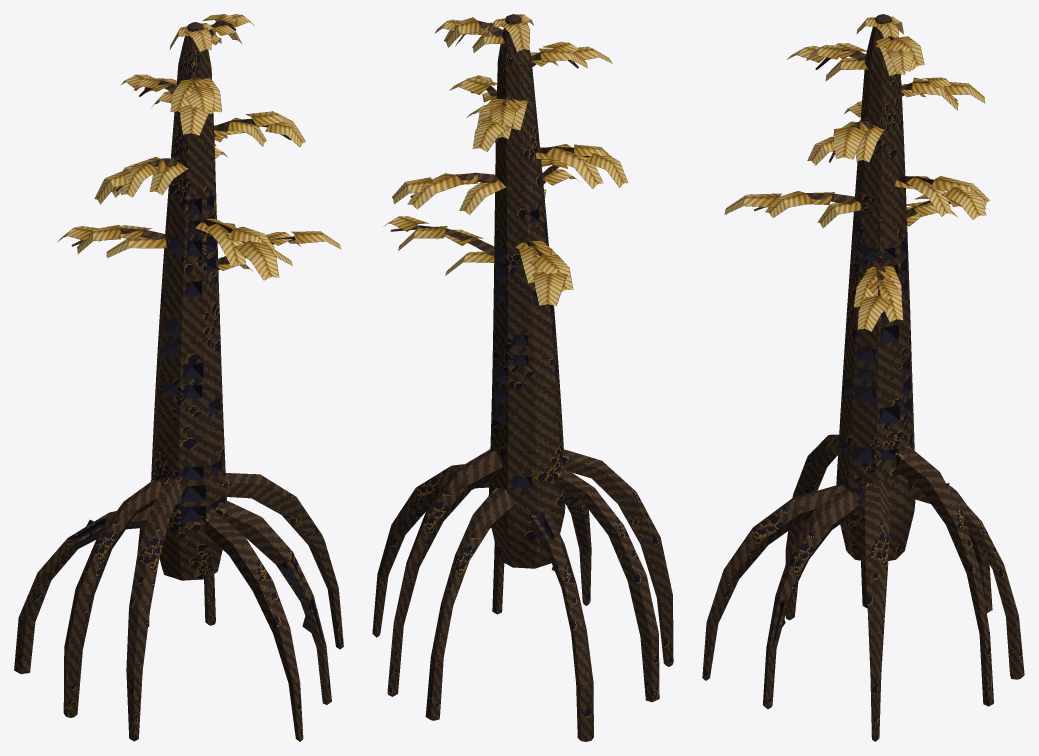
File: FLO-02_Arbol_zancudo_c.gltf
3 renders of one model, left to right at view 1: azimuth 30°, elevation 25°; view 2: azimuth 150°, elevation 25°; view 3: azimuth 270°, elevation 25°, orthographic.
Parts seen in each view (by area): view 1: FLO-02_Arbol_zancudo_c; view 2: FLO-02_Arbol_zancudo_c; view 3: FLO-02_Arbol_zancudo_c.
Boxes of the visible parts, box(x1,y1,x2,y2) form: FLO-02_Arbol_zancudo_c: box(14, 14, 343, 741); FLO-02_Arbol_zancudo_c: box(372, 14, 673, 741); FLO-02_Arbol_zancudo_c: box(702, 14, 1024, 741).
Size of what is drawn, in the model's own units: 4.36 by 9.76 by 4.32.
1 material, 1 textured.
